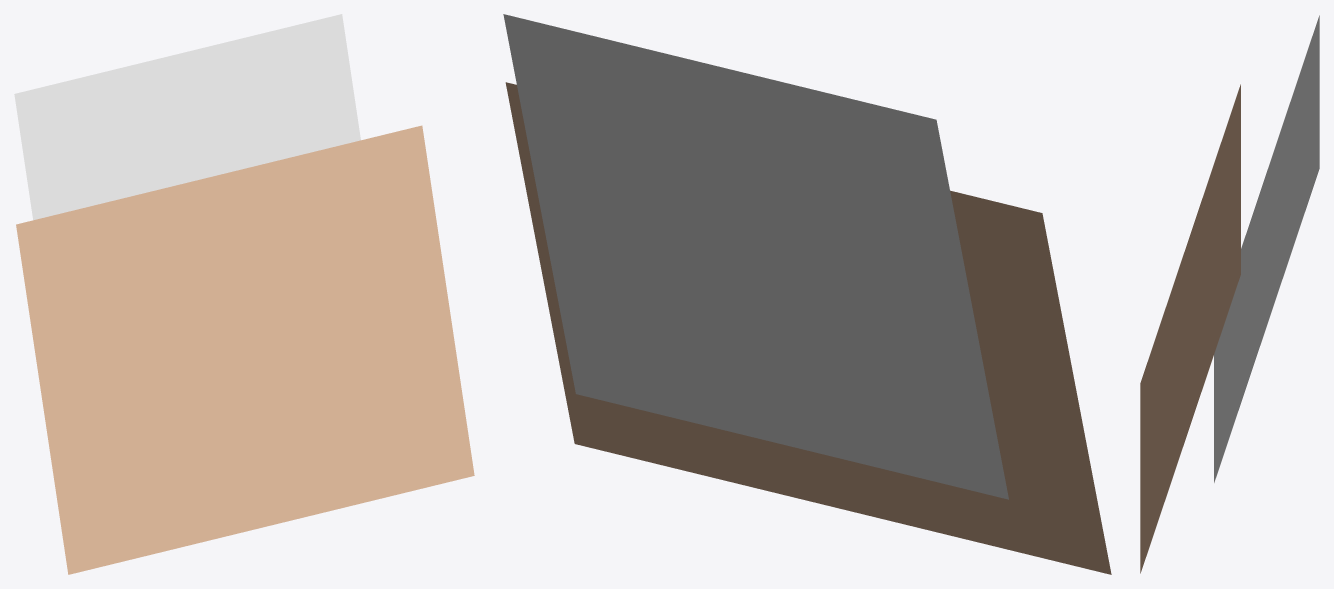
File: 4883dishup_s.gltf
The picture shows the model from 3 angles, left to right: view 1: azimuth 30°, elevation 25°; view 2: azimuth 150°, elevation 25°; view 3: azimuth 270°, elevation 25°; orthographic projection. The views are drawn at different scales.
Parts seen in each view (by area): view 1: 4883dishup_s; view 2: 4883dishup_s; view 3: 4883dishup_s.
Boxes of the visible parts, box(x1,y1,x2,y2) form: 4883dishup_s: box(14, 14, 474, 574); 4883dishup_s: box(503, 14, 1111, 574); 4883dishup_s: box(1140, 15, 1319, 573).
Size of the model in its own units: 0.2451 by 0.2324 by 0.0974.
